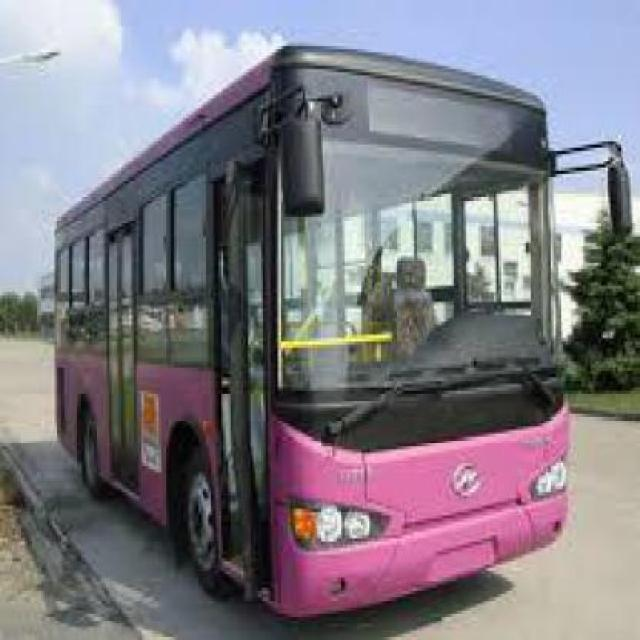bus: (53, 43, 632, 618)
